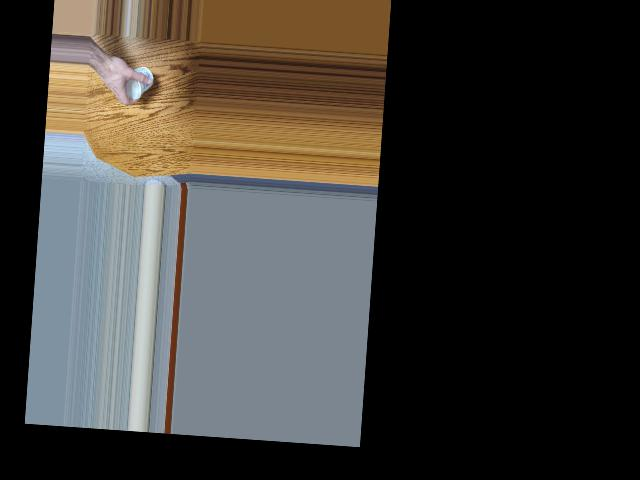cotage: (122, 68, 155, 108)
